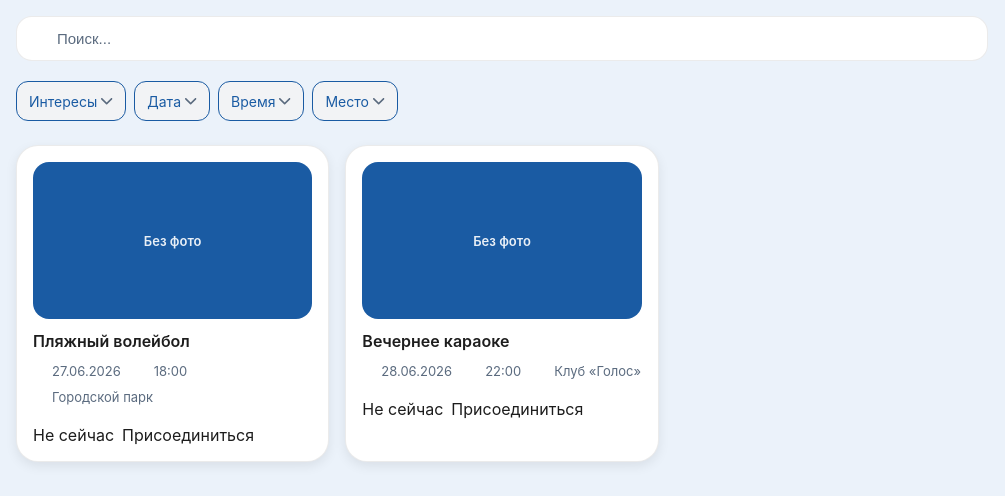
FirstPage feed › filters the list by the search query
In the field with placeholder "Поиск...": [514, 38] box [55,29,973,48], type "караоке"
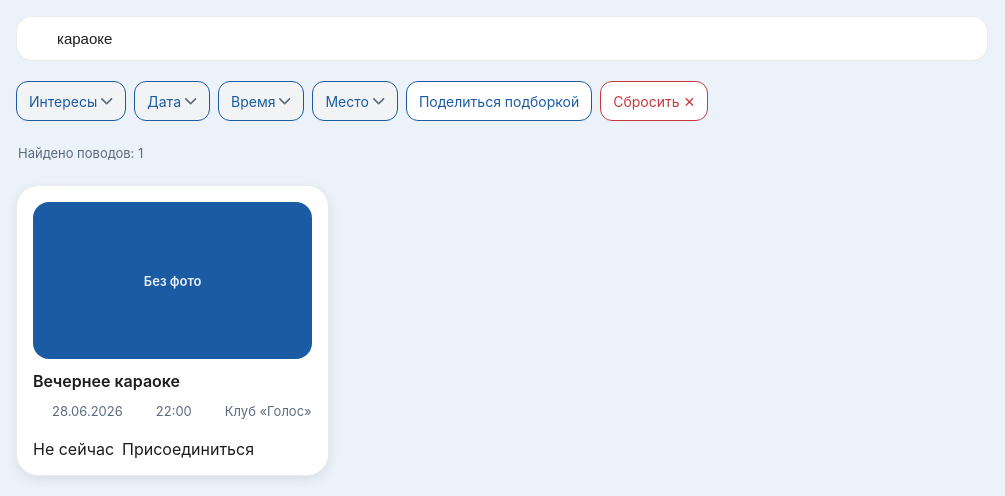
Expected: the heading "Вечернее караоке" is shown, [33,371,180,391]
Result: the heading "Пляжный волейбол" is gone
Result: the text "Найдено поводов: 1" is shown at [18,145,143,161]
